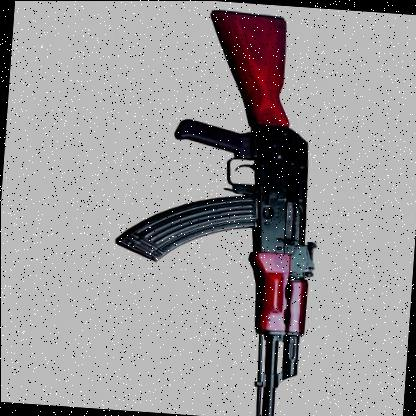rifle: (98, 6, 367, 416)
